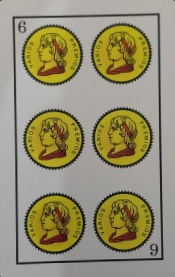6o: (11, 11, 163, 35)
